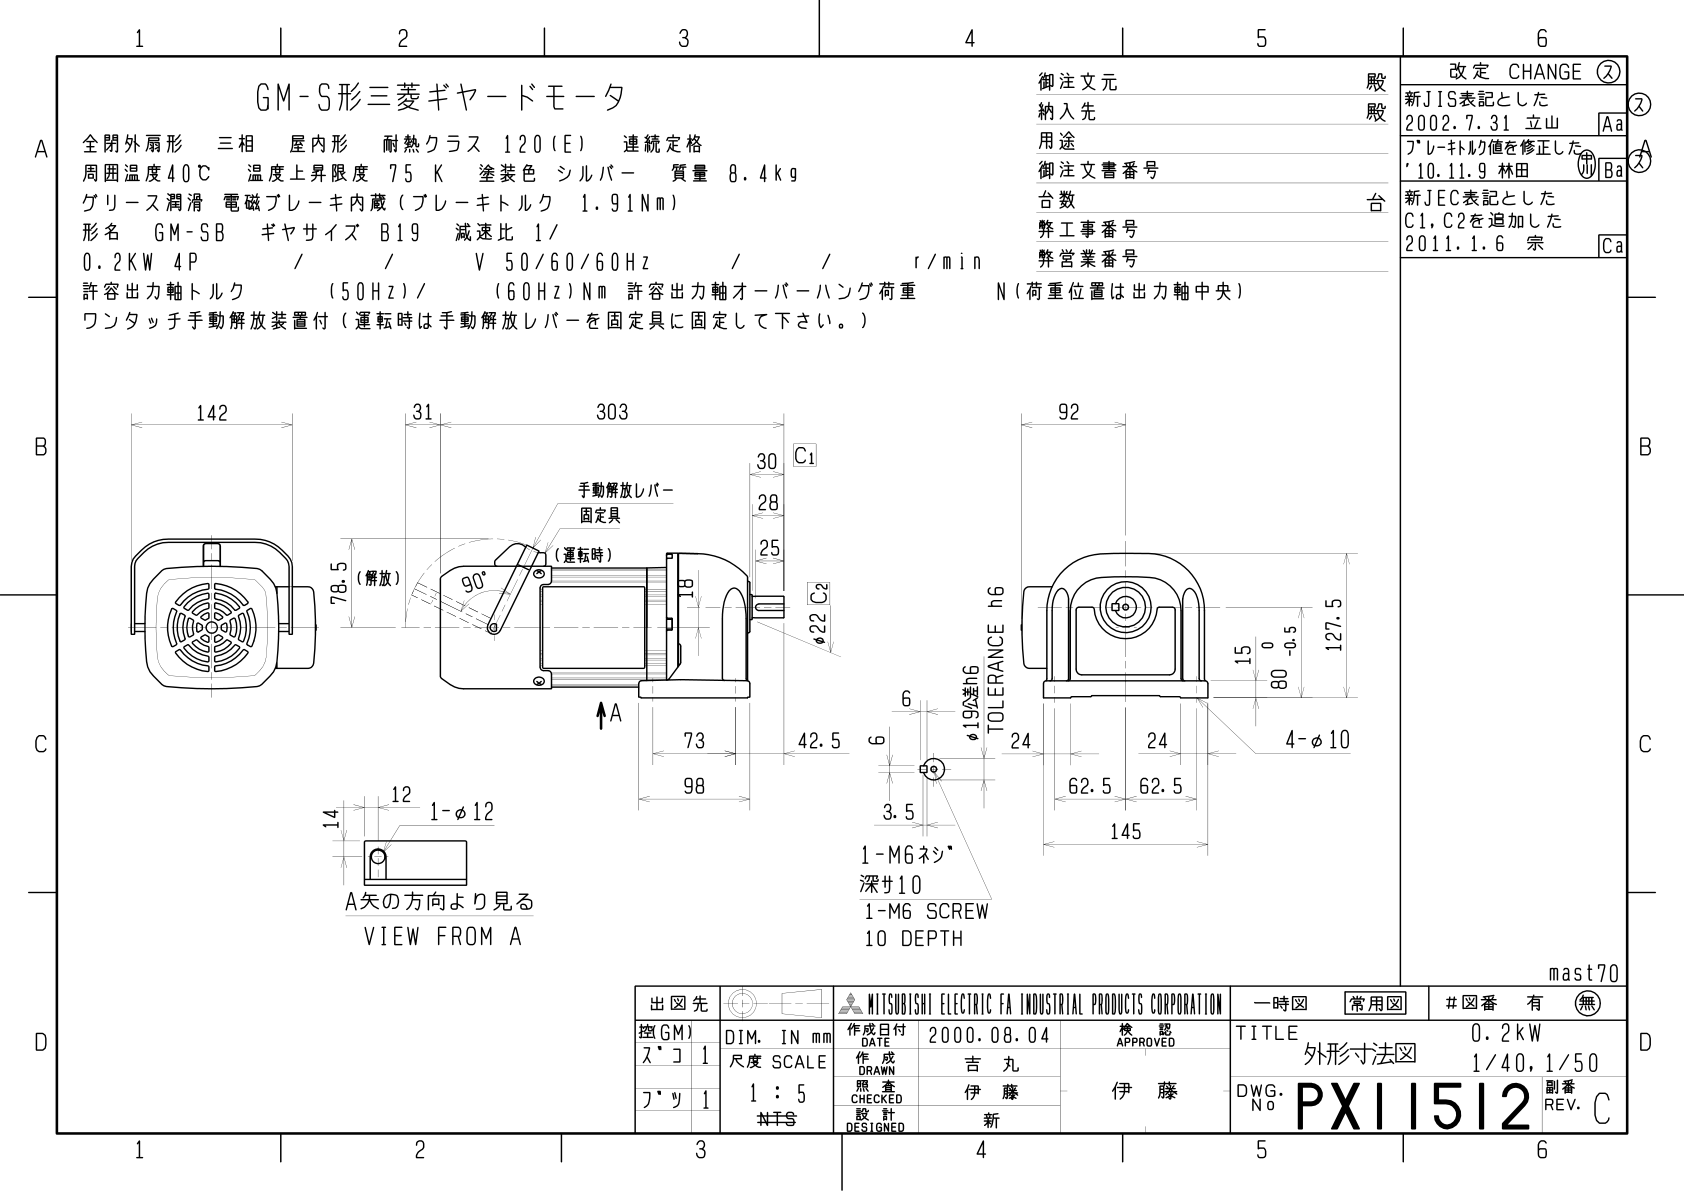GM_S_手動ブレーキ＿三相_脚: (6, 8, 1670, 1181)
